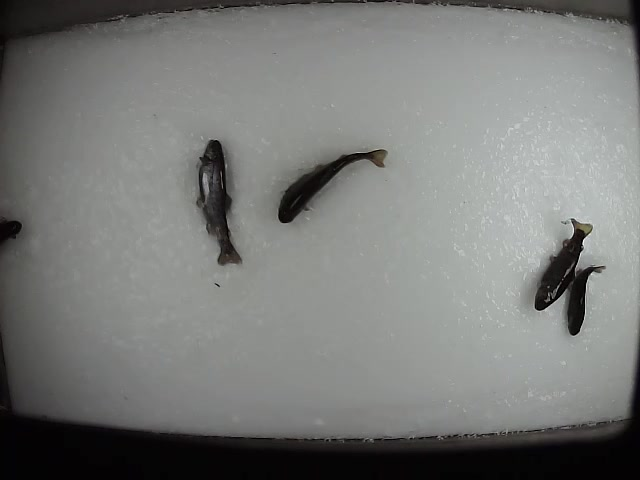fish: (274, 146, 389, 226), (192, 134, 245, 266), (530, 216, 595, 311), (564, 260, 609, 337)
